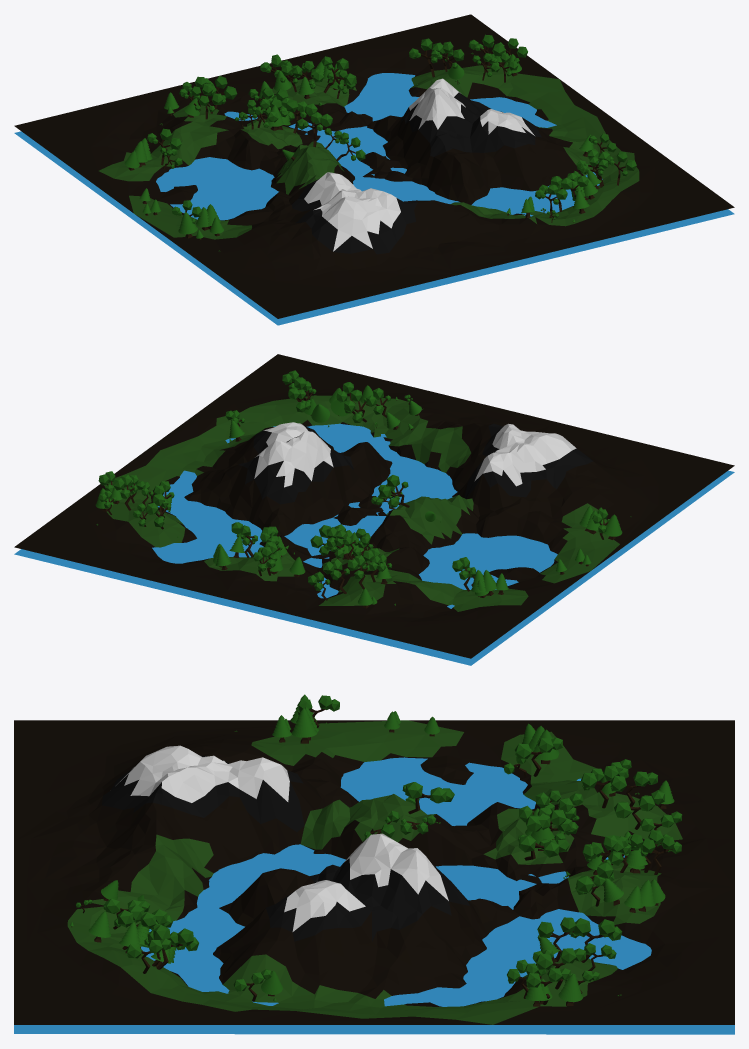
Rendered from mountain.obj.
3 views of the same model, one above another, from view 1: azimuth 30°, elevation 25°; view 2: azimuth 150°, elevation 25°; view 3: azimuth 270°, elevation 25° (orthographic). The views are drawn at different scales.
Parts seen in each view (by area): view 1: Landscape_Landscape.001, Landscape_plane_Landscape_plane.001, Landscape|Tree2|Dupli|23_Cube.000; view 2: Landscape_Landscape.001, Landscape_plane_Landscape_plane.001, Landscape|Tree2|Dupli|64_Cube.000; view 3: Landscape_Landscape.001, Landscape_plane_Landscape_plane.001, Landscape|Tree2|Dupli|85_Cube.000, Landscape|Tree2|Dupli|10_Cube.000, Landscape|Tree2|Dupli|64_Cube.000, Landscape|Tree2|Dupli|70_Cube.000, Landscape|Tree2|Dupli|87_Cube.000, Landscape|Tree2|Dupli|23_Cube.000, Landscape|Tree2|Dupli|92_Cube.000, Landscape|Tree2|Dupli|54_Cube.000, Landscape|Tree2|Dupli|9_Cube.000, Landscape|Tree2|Dupli|58_Cube.000 (+3 smaller).
Boxes of the visible parts, x1,y1,x2,y2 form: Landscape_Landscape.001: (14,14,734,318); Landscape_plane_Landscape_plane.001: (14,73,734,325); Landscape|Tree2|Dupli|23_Cube.000: (321,56,356,93); Landscape_Landscape.001: (14,354,734,658); Landscape_plane_Landscape_plane.001: (14,423,734,665); Landscape|Tree2|Dupli|64_Cube.000: (379,475,409,507); Landscape_Landscape.001: (14,720,734,1024); Landscape_plane_Landscape_plane.001: (14,757,734,1034); Landscape|Tree2|Dupli|85_Cube.000: (570,918,622,962); Landscape|Tree2|Dupli|10_Cube.000: (614,790,664,829); Landscape|Tree2|Dupli|64_Cube.000: (402,782,454,814); Landscape|Tree2|Dupli|70_Cube.000: (518,834,569,860); Landscape|Tree2|Dupli|87_Cube.000: (153,925,198,969); Landscape|Tree2|Dupli|23_Cube.000: (576,851,623,892); Landscape|Tree2|Dupli|92_Cube.000: (536,948,585,989); Landscape|Tree2|Dupli|54_Cube.000: (515,737,562,776); Landscape|Tree2|Dupli|9_Cube.000: (610,771,657,806); Landscape|Tree2|Dupli|58_Cube.000: (581,765,628,808).
Size of what is drawn, in the model's own units: 29.61 by 5.25 by 29.61.
